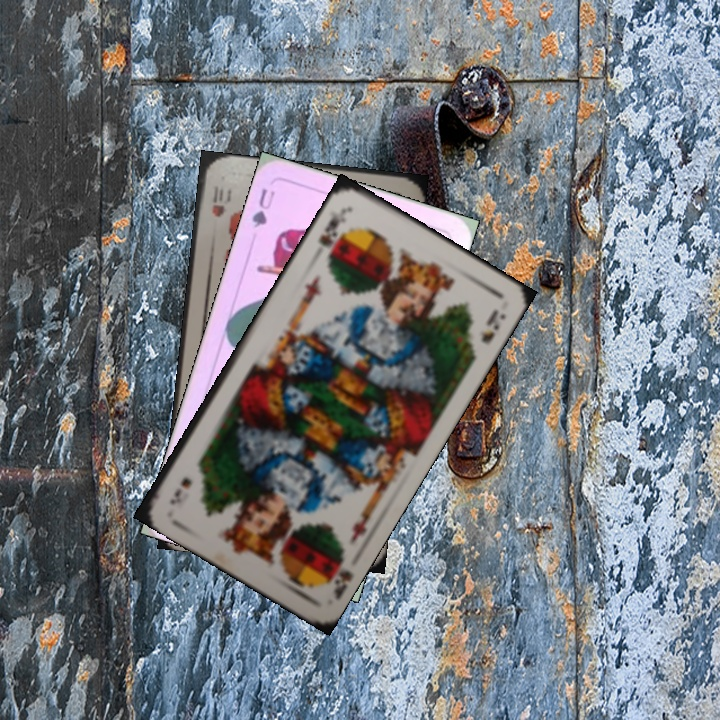GU: (247, 184, 278, 231)
H10: (207, 182, 228, 220)
SK: (314, 206, 349, 263), (321, 545, 356, 602)
